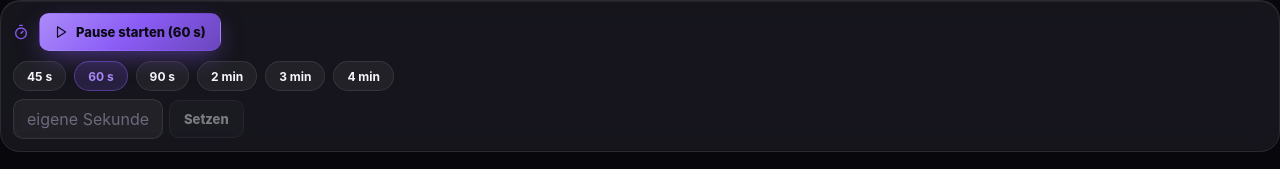
Test: RestTimer — adjustable pauses › adds thirty seconds on demand
Click the button "Pause starten (60 s)": coordinates (130, 32) left=39, top=13, right=221, bottom=51
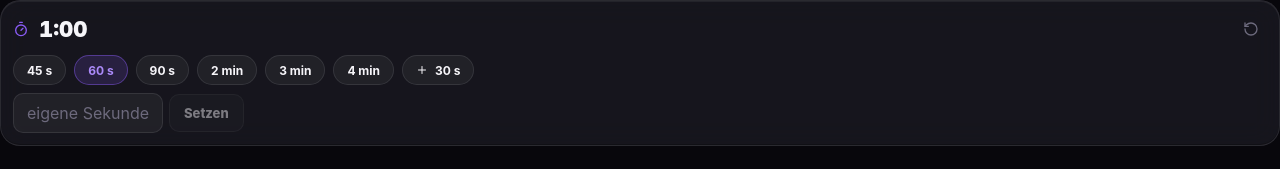
Click the button "30 s": coordinates (438, 70) left=402, top=55, right=474, bottom=85
Wait 1000 ms
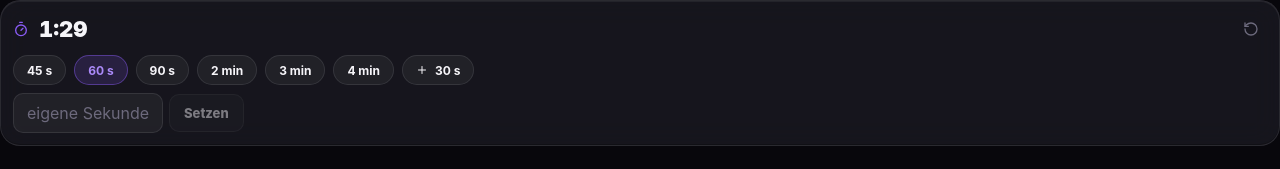
Expected: the text "1:29" is shown, left=39, top=16, right=88, bottom=42
